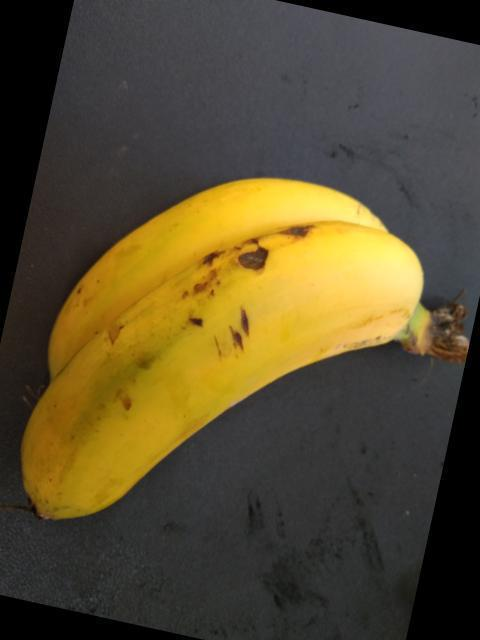ripe: (4, 227, 424, 537)
